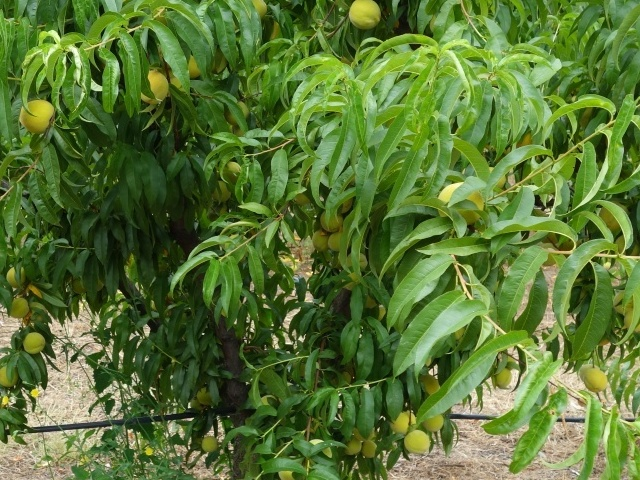peach: (436, 177, 484, 225), (14, 96, 59, 137), (140, 66, 173, 106), (411, 371, 447, 404), (401, 426, 433, 461), (346, 1, 382, 32), (222, 95, 252, 130), (386, 410, 417, 439), (420, 406, 449, 434), (5, 294, 33, 322), (584, 366, 612, 394), (316, 208, 345, 233), (491, 366, 516, 393), (212, 177, 233, 208), (307, 227, 332, 253), (20, 331, 46, 355), (194, 384, 217, 411), (5, 265, 30, 289), (198, 434, 221, 457), (342, 438, 364, 462), (361, 435, 382, 459), (1, 365, 20, 391), (328, 234, 349, 253)
